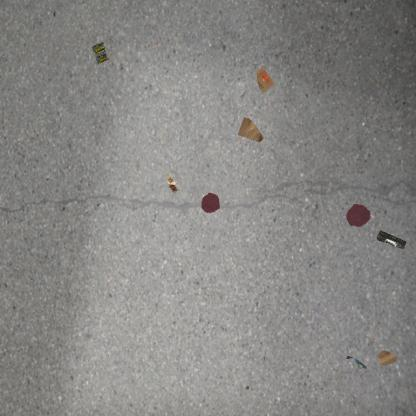dirty: (235, 115, 266, 145), (374, 228, 408, 252), (252, 64, 278, 95), (89, 40, 111, 65), (375, 347, 399, 369), (344, 353, 368, 372), (164, 169, 180, 193)
liquid: (345, 203, 373, 228), (201, 192, 220, 214)
